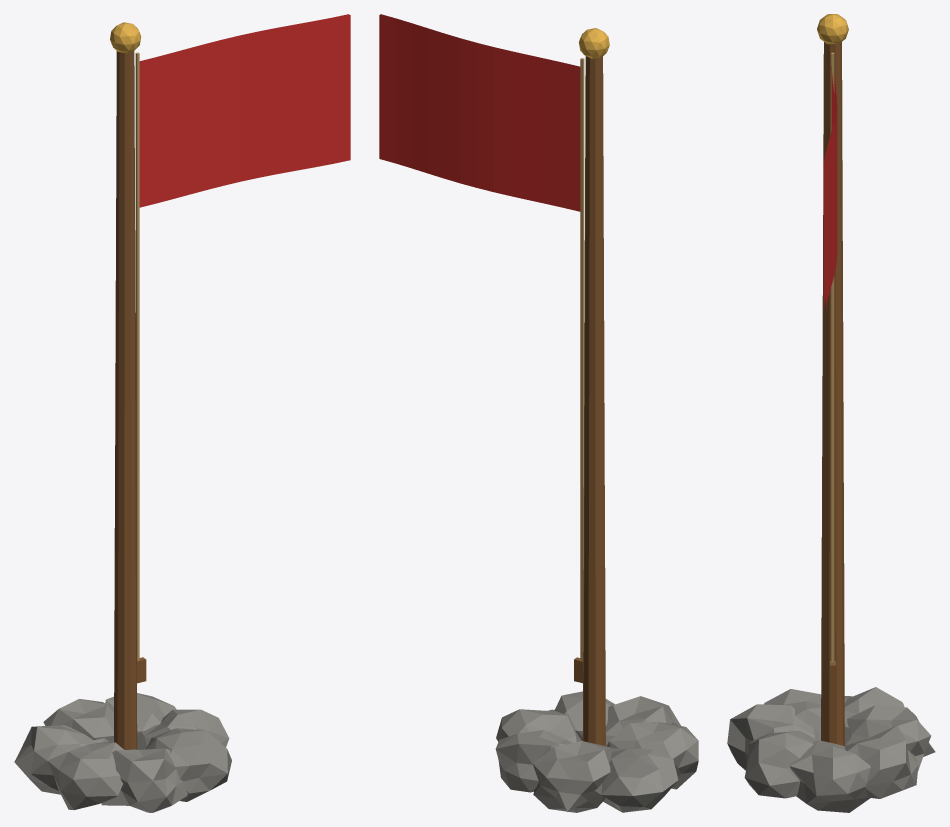
Rendered from isle_flag_v01.glb.
3 views of the same model, side by side, from view 1: azimuth 30°, elevation 25°; view 2: azimuth 150°, elevation 25°; view 3: azimuth 270°, elevation 25° (orthographic).
Parts seen in each view (by area): view 1: flag_pole, flag_cloth; view 2: flag_pole, flag_cloth; view 3: flag_pole, flag_cloth.
Part boxes in pixels (<box>): flag_pole: <box>14,22,231,812</box>; flag_cloth: <box>139,14,350,207</box>; flag_pole: <box>495,28,698,812</box>; flag_cloth: <box>379,14,580,211</box>; flag_pole: <box>727,14,935,812</box>; flag_cloth: <box>823,66,837,309</box>.
Bounding box in the file's own units: 1.79 × 4.22 × 1.04.
